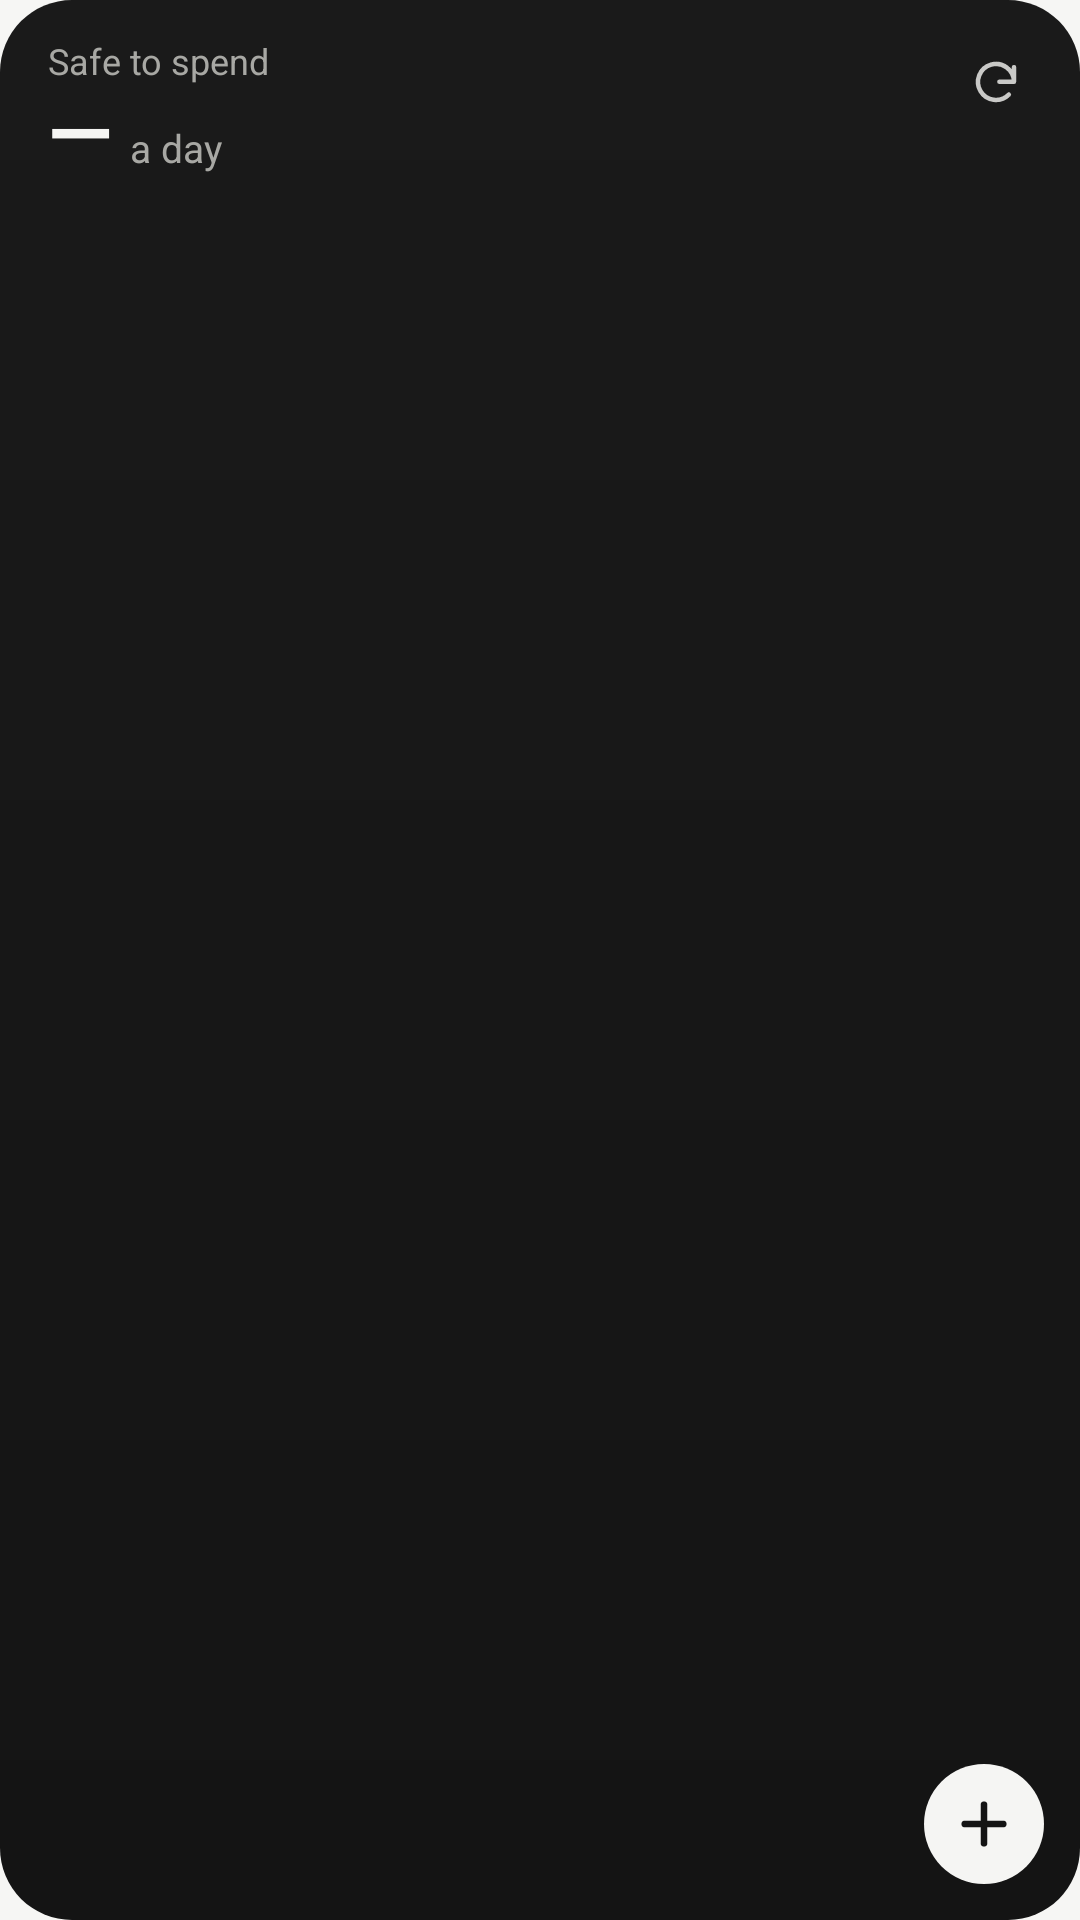

Locate icon controls on the screen. Image size 1080×1920, boxes as (x1, y1, x2, y2).
Add a payment: (924, 1764, 1044, 1884)
Refresh: (975, 61, 1017, 103)
